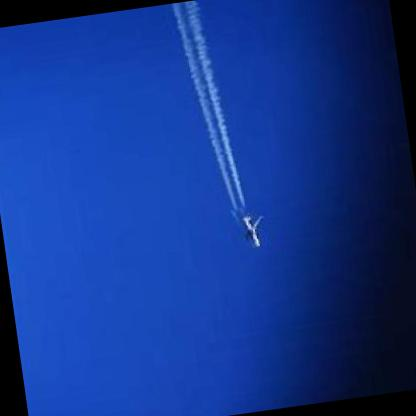plane: (225, 200, 275, 254)
